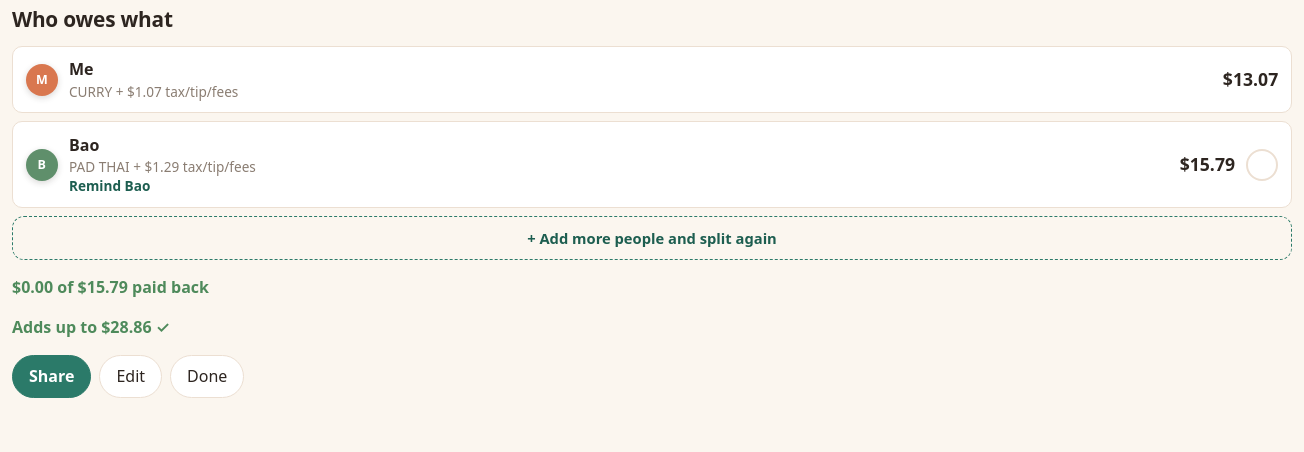
Test case: SplitFlow › a tick that can't be saved is undone, with the reason
Step 1. Click the button named "Mark Bao as paid" → (1262, 165), box [1246,149,1278,181]
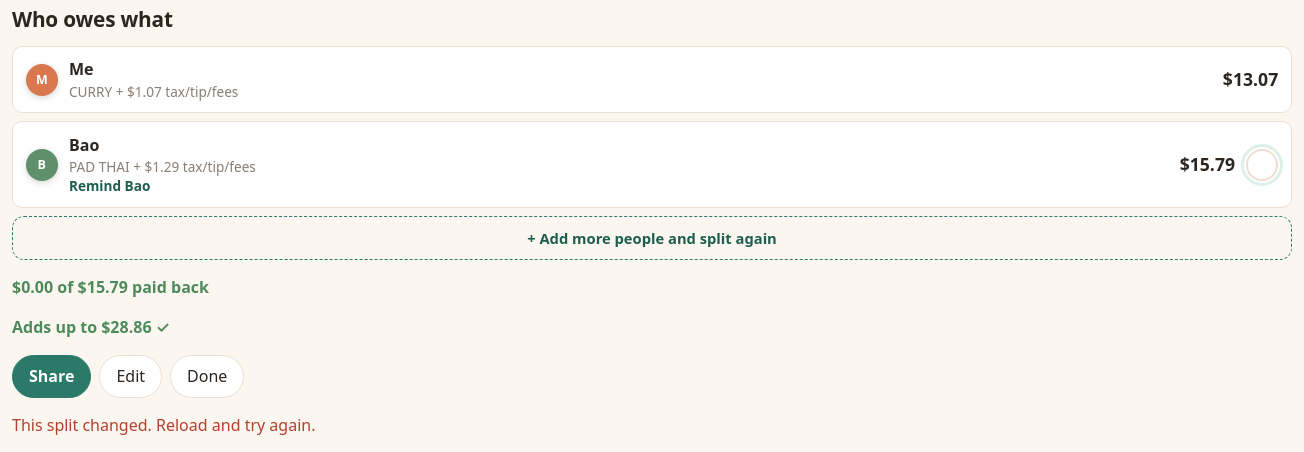
Check: the list item "B Bao PAD THAI + $1.29 tax/tip/fees Remind Bao $15.79" does not show "Paid", box [12,121,1292,208]
Check: the message shows "This split changed", box [12,414,316,436]
